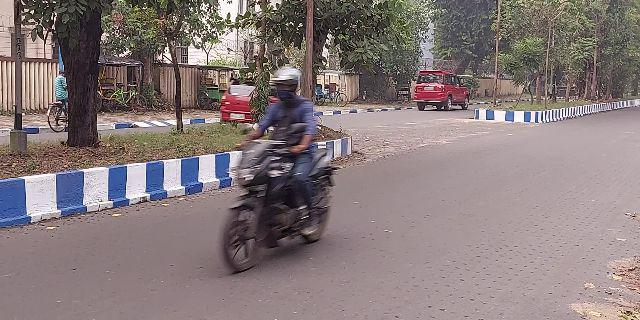Car: (411, 69, 476, 113)
Motorbike: (219, 63, 343, 284)
